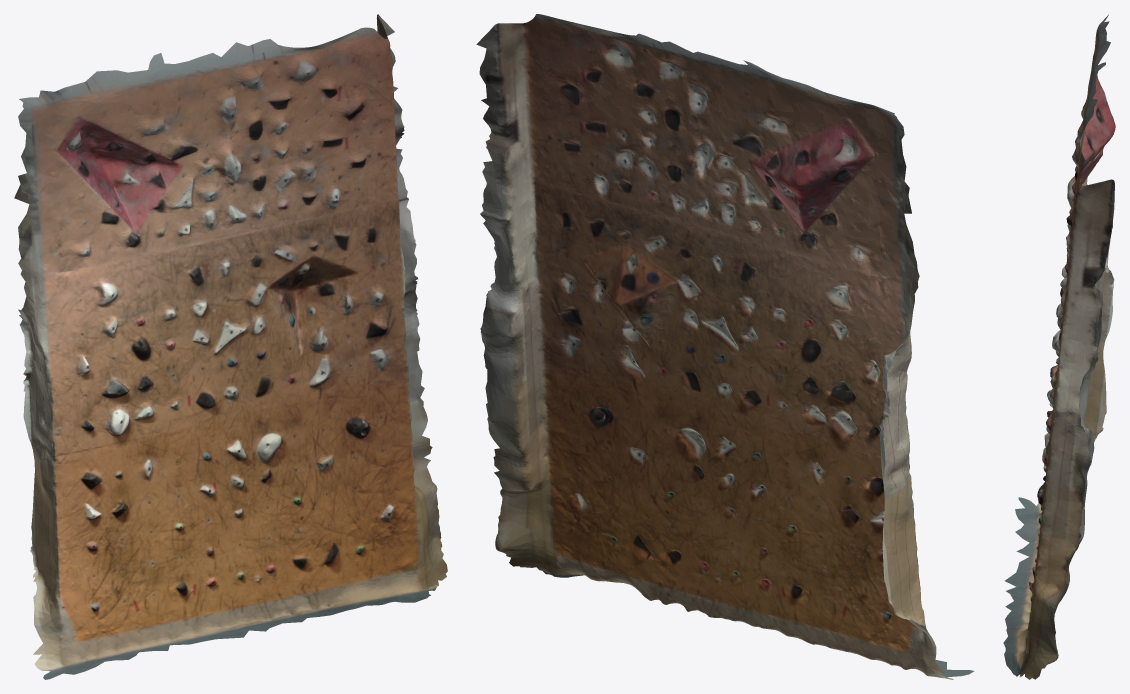
File: wall.fbx
3 renders of one model, left to right at view 1: azimuth 30°, elevation 25°; view 2: azimuth 150°, elevation 25°; view 3: azimuth 270°, elevation 25°, orthographic. The views are drawn at different scales.
Parts seen in each view (by area): view 1: mesh; view 2: mesh; view 3: mesh.
Boxes of the visible parts, x1,y1,x2,y2 form: mesh: (14, 14, 447, 679); mesh: (476, 14, 974, 679); mesh: (1003, 14, 1115, 679).
Bounding box in the file's own units: 2800 × 3603 × 714.
Materials: 1 (1 with a texture image).
